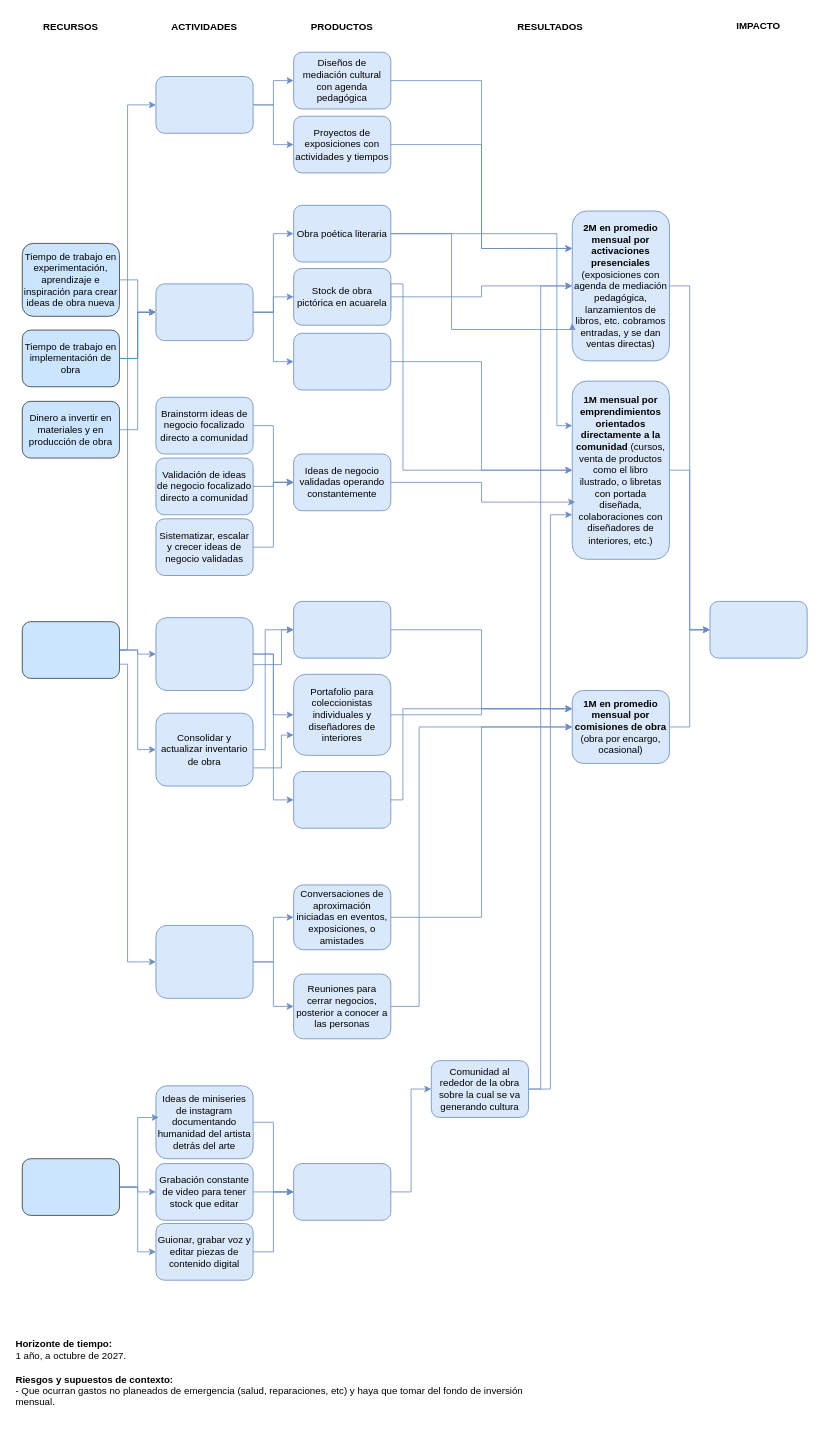
Image size: 821x1439. Some labels were removed from this diagram. Here are the shapes that lost their labels. From the top down, the box of each, then its label:
(155, 76, 253, 133): Gestionar periódicamente exposiciones o activaciones
(155, 283, 253, 341): Creación de obra
(293, 333, 391, 390): Libros ilustrados publicados e impresos
(21, 621, 119, 678): Tiempo de trabajo en gestión cultural
(293, 601, 391, 658): Portafolio para empresas
(709, 601, 807, 658): Devengar 4 millones mensuales consistentemente de la práctica del arte
(155, 617, 253, 691): Creación de portafolios para visibilizar y cerrar negocios
(293, 771, 391, 828): Página web con tienda
(155, 925, 253, 998): Conocer gente y mostrarles portafolios
(21, 1158, 119, 1215): Tiempo de trabajo en cultivo digital de comunidad
(293, 1163, 391, 1220): Miniseries de reels de instagram publicadas
